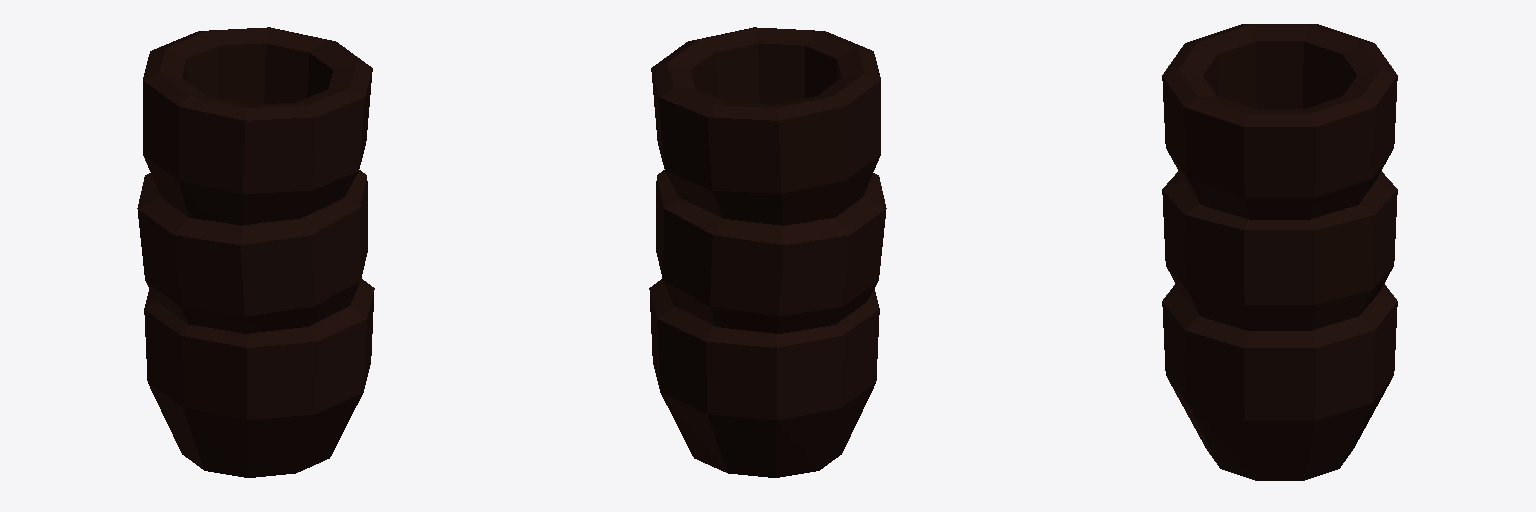
Rendered from cup_stacked.obj.
3 renders of one model, left to right at view 1: azimuth 30°, elevation 25°; view 2: azimuth 150°, elevation 25°; view 3: azimuth 270°, elevation 25°, orthographic.
Visible parts, largest first — view 1: cup_stacked_Cylinder.294; view 2: cup_stacked_Cylinder.294; view 3: cup_stacked_Cylinder.294.
Boxes of the visible parts, <box> form: cup_stacked_Cylinder.294: <box>137,27,374,477</box>; cup_stacked_Cylinder.294: <box>649,27,886,477</box>; cup_stacked_Cylinder.294: <box>1162,24,1397,480</box>.
Bounding box in the file's own units: 0.2913 × 0.5302 × 0.2959.